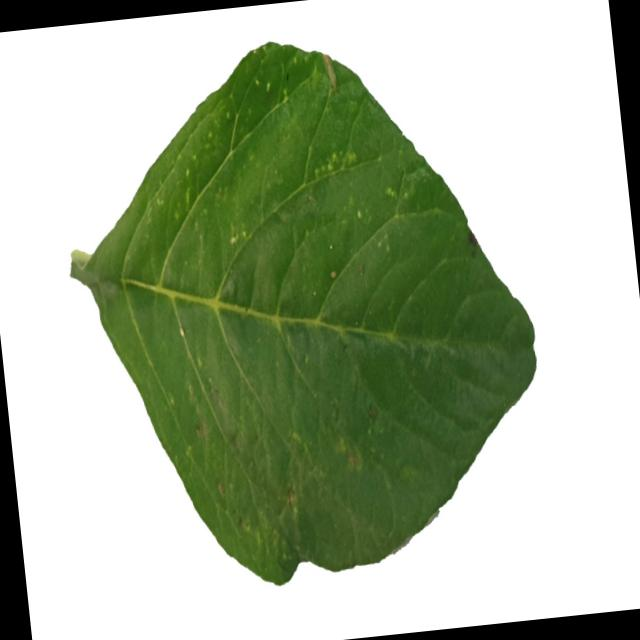Medicinal-Arive Dantu: (49, 16, 557, 608)
